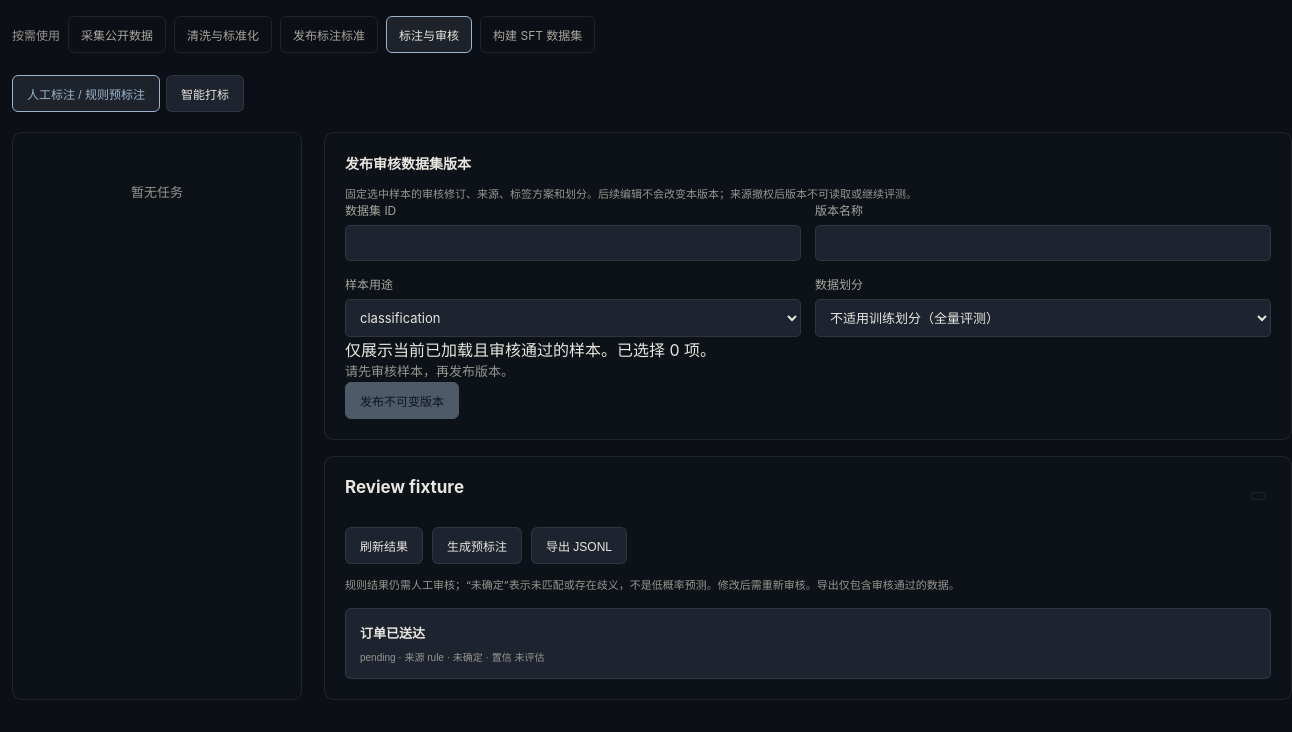
rules, QA and governed review › displays uncertain status and exact evidence spans without a fake confidence score
(page scrolled)
What coordinates should you click on to do the following:
click the button "订单已送达 pending · 来源 rule · 未确定 · 置信 未评估"
I would click on:
 (393, 633)
Its box is [345, 608, 1271, 679].
(page scrolled)
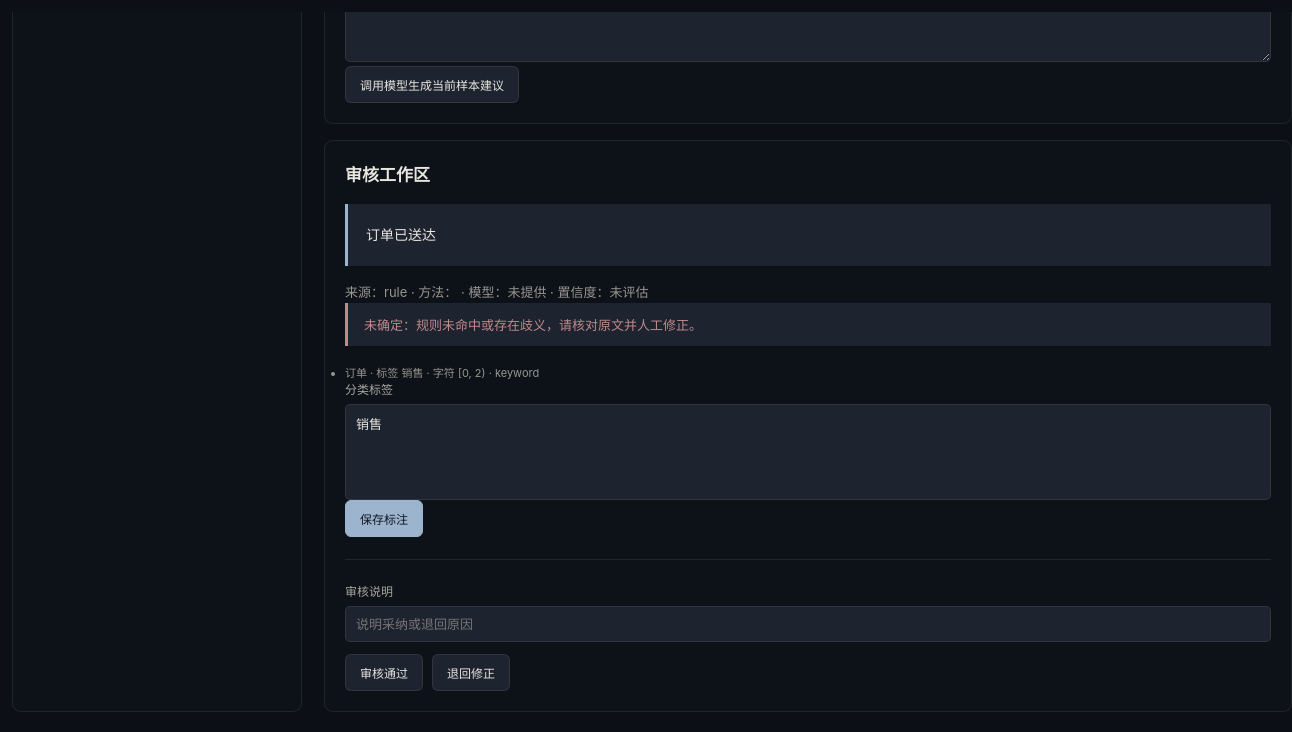
Expected: the text "未确定：规则未命中或存在歧义" is shown, [364, 317, 702, 333]
Expected: the list named "规则命中依据" shows "字符 [0, 2)", [345, 366, 539, 380]
Expected: the text "置信度：未评估" is shown, [345, 284, 648, 300]
